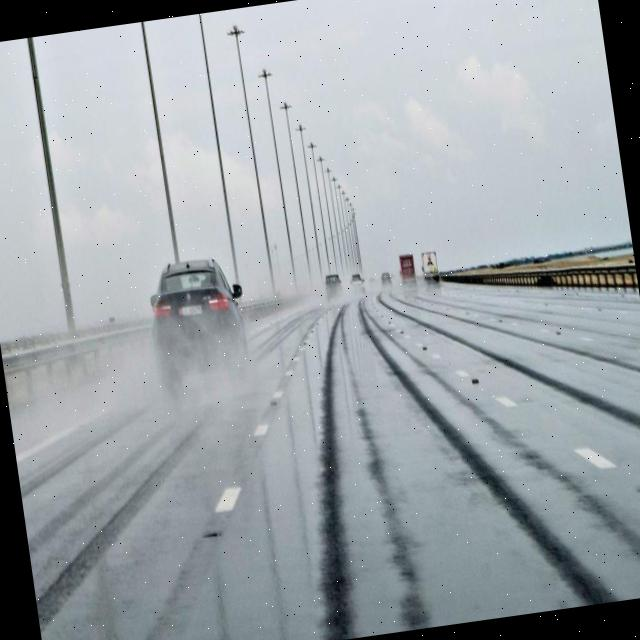bus: (397, 252, 418, 288), (420, 249, 441, 283)
car: (144, 256, 246, 352), (322, 270, 344, 300), (378, 270, 394, 290), (350, 274, 364, 294)
